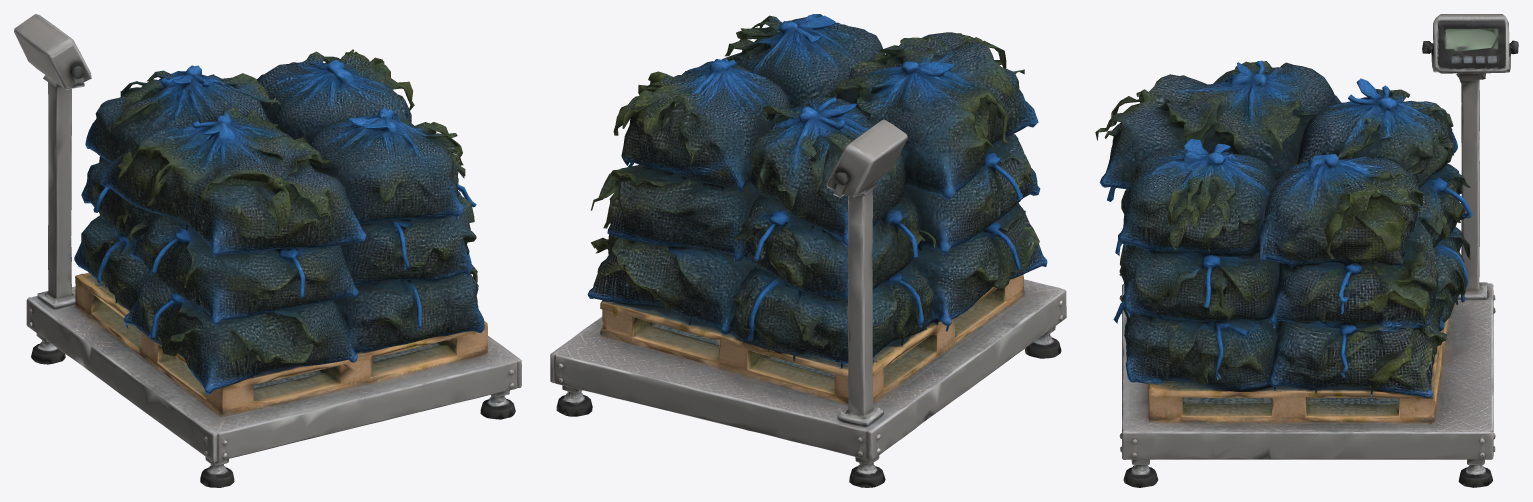
Rendered from auction-scale.glb.
The picture shows the model from 3 angles, left to right: view 1: azimuth 30°, elevation 25°; view 2: azimuth 150°, elevation 25°; view 3: azimuth 270°, elevation 25°; orthographic projection. The views are drawn at different scales.
Visible parts, largest first — view 1: tripo_node_0310ab46-bb20-473f-905d-f288b7cad83c; view 2: tripo_node_0310ab46-bb20-473f-905d-f288b7cad83c; view 3: tripo_node_0310ab46-bb20-473f-905d-f288b7cad83c.
Part boxes in pixels (left/top/right/bottom): tripo_node_0310ab46-bb20-473f-905d-f288b7cad83c: left=14, top=14, right=521, bottom=487; tripo_node_0310ab46-bb20-473f-905d-f288b7cad83c: left=550, top=14, right=1066, bottom=487; tripo_node_0310ab46-bb20-473f-905d-f288b7cad83c: left=1095, top=14, right=1518, bottom=487.
Bounding box in the file's own units: 0.8997 × 0.8591 × 1.
1 material, 1 textured.
